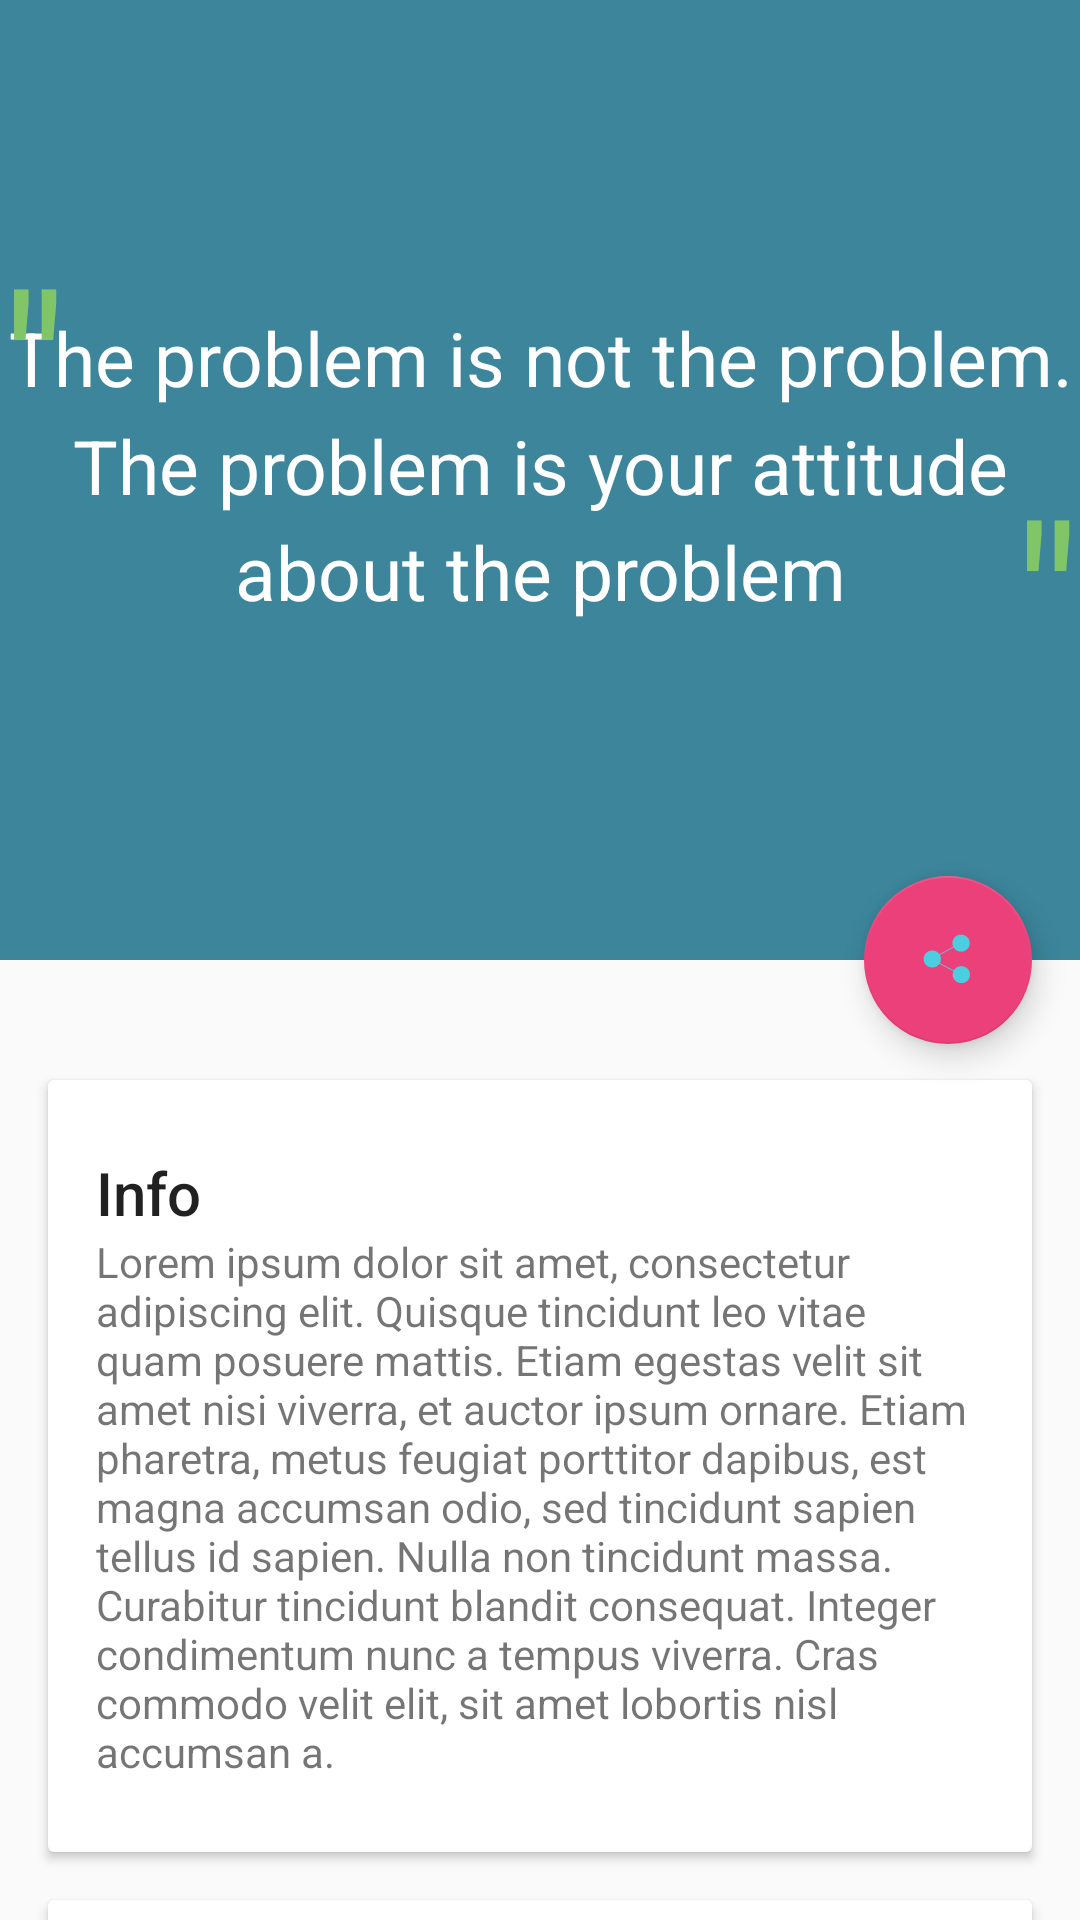

Point at icon controls on the screen. Image size 1080w x 1920h, points as [x,y].
share: [948,960]
